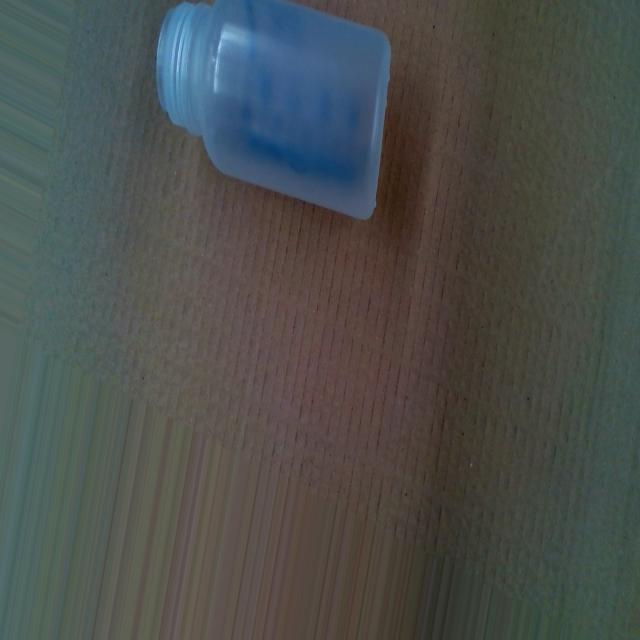bottle: (153, 0, 394, 226)
